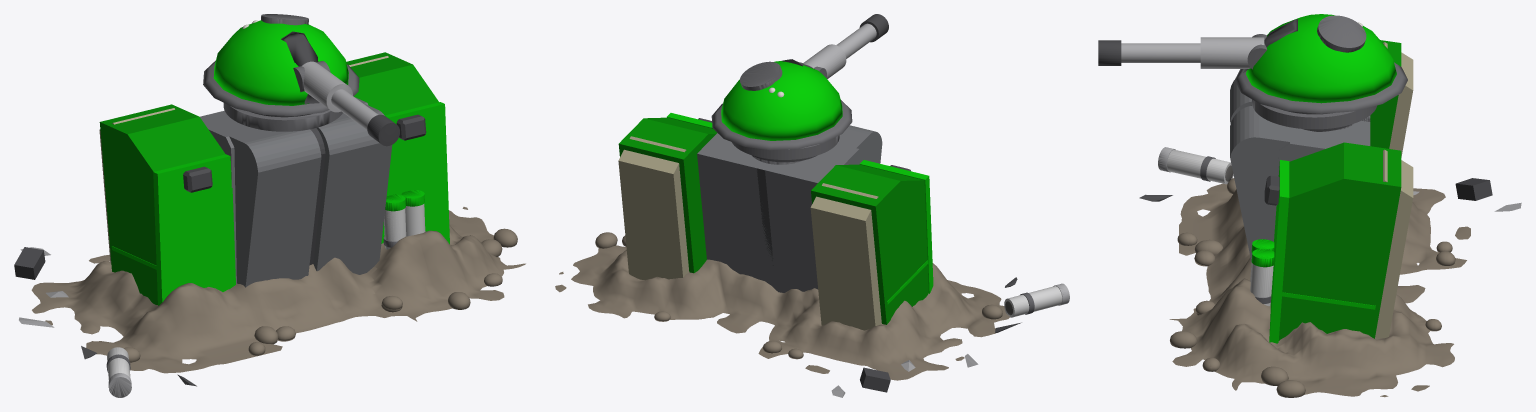
The model's file is tick-tank-dug-in.glb.
The picture shows the model from 3 angles, left to right: view 1: azimuth 30°, elevation 25°; view 2: azimuth 150°, elevation 25°; view 3: azimuth 270°, elevation 25°; orthographic projection. The views are drawn at different scales.
Visible parts, largest first — view 1: base, base-damaged, turret_mesh; view 2: base, base-damaged, turret_mesh; view 3: base, base-damaged, turret_mesh.
Part boxes in pixels (box(x1,y1,x2,y2)): base: box(31, 52, 525, 373); base-damaged: box(14, 209, 512, 397); turret_mesh: box(203, 14, 399, 146); base: box(555, 113, 1009, 380); base-damaged: box(587, 233, 1069, 397); turret_mesh: box(711, 14, 888, 159); base: box(1169, 40, 1470, 397); base-damaged: box(1139, 147, 1521, 397); turret_mesh: box(1098, 14, 1407, 129).
Size of the model in its own units: 1.09 by 0.5918 by 0.8331.
